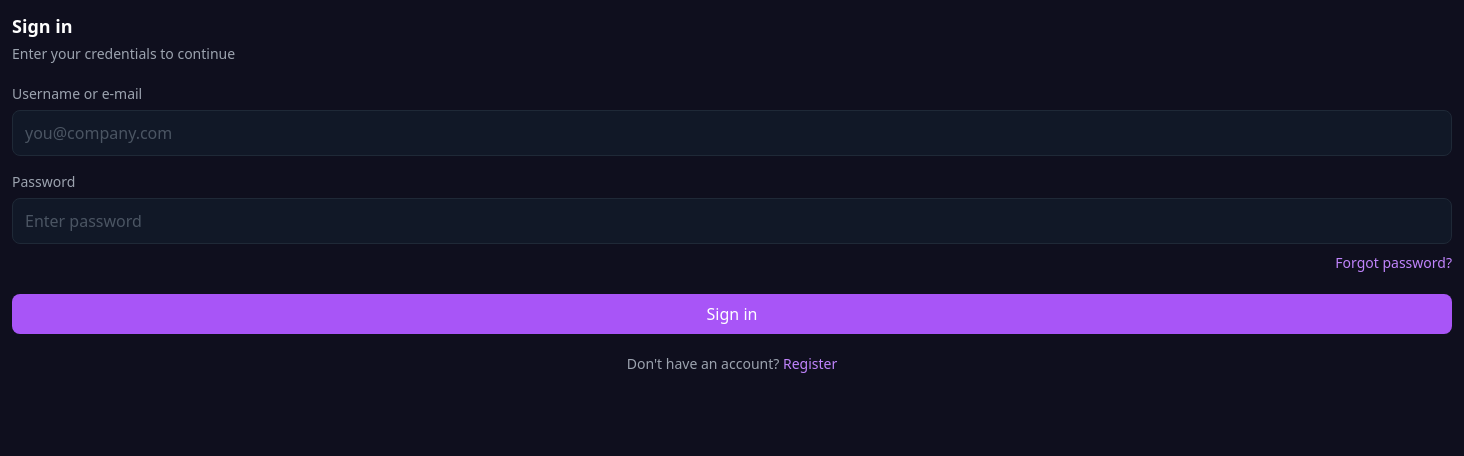
it: sign-in identifier › an empty form asks for both fields without a request
The width and height of the screenshot is (1464, 456).
Click the button "Sign in". click: click(732, 314)
box: [12,294,1452,334]
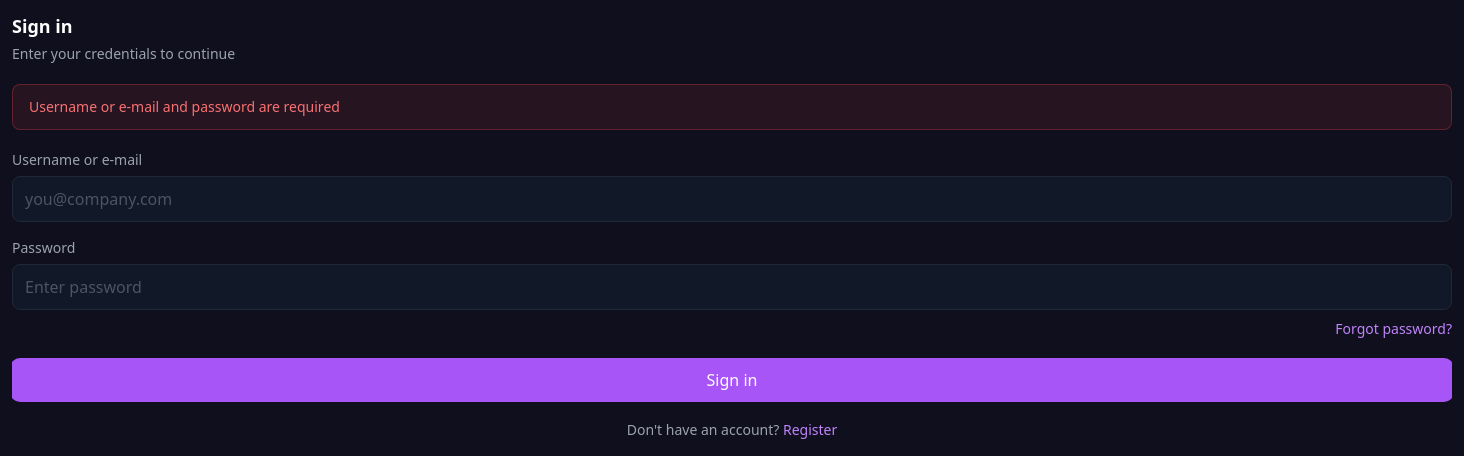
expect the text "Username or e-mail and password are required" is shown: met, box [12,84,1452,130]
